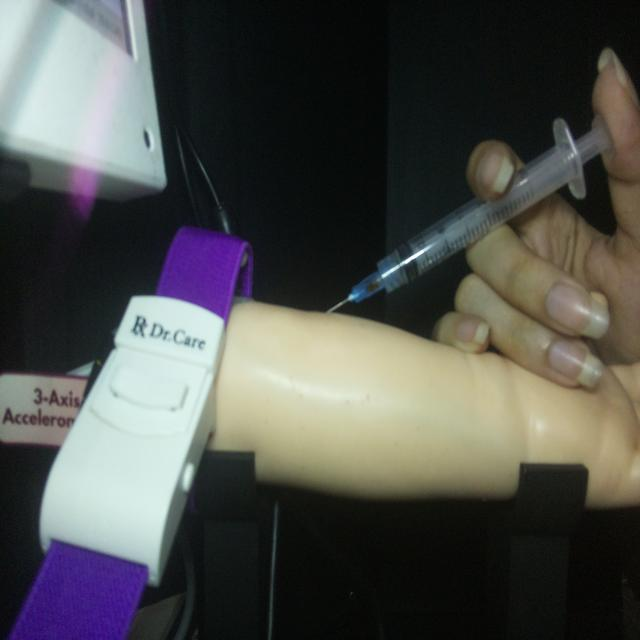21 degrees: (324, 110, 613, 315)
